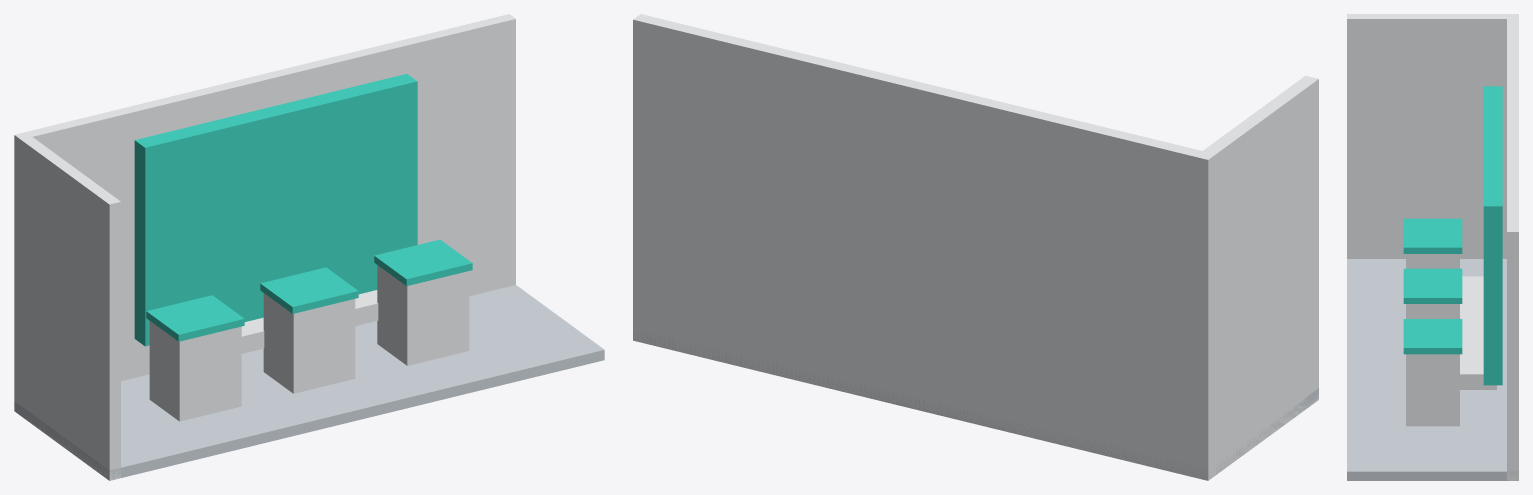
3 renders of one model, left to right at view 1: azimuth 30°, elevation 25°; view 2: azimuth 150°, elevation 25°; view 3: azimuth 270°, elevation 25°, orthographic. The views are drawn at different scales.
Parts seen in each view (by area): view 1: Exhibition Booth Concept; view 2: Exhibition Booth Concept; view 3: Exhibition Booth Concept.
Part boxes in pixels (x1,y1,x2,y2): Exhibition Booth Concept: (14, 14, 604, 480); Exhibition Booth Concept: (633, 14, 1318, 480); Exhibition Booth Concept: (1347, 14, 1518, 480).
Size of the model in its own units: 6 by 3.2 by 2.
